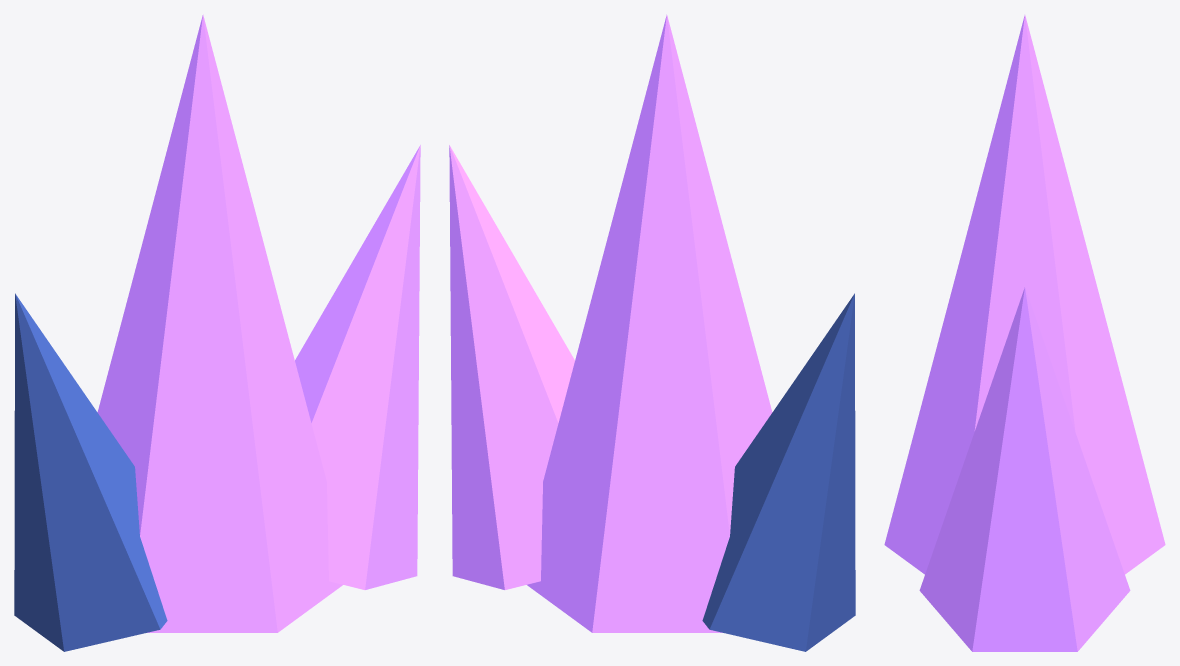
File: magic_crystal.glb
The picture shows the model from 3 angles, left to right: view 1: azimuth 30°, elevation 25°; view 2: azimuth 150°, elevation 25°; view 3: azimuth 270°, elevation 25°; orthographic projection. The views are drawn at different scales.
Parts seen in each view (by area): view 1: magic_crystal; view 2: magic_crystal; view 3: magic_crystal.
Boxes of the visible parts, left/top/right/bottom form: magic_crystal: left=14, top=14, right=420, bottom=651; magic_crystal: left=449, top=14, right=855, bottom=651; magic_crystal: left=884, top=15, right=1165, bottom=651.
Bounding box in the file's own units: 0.376 × 0.5202 × 0.24.
